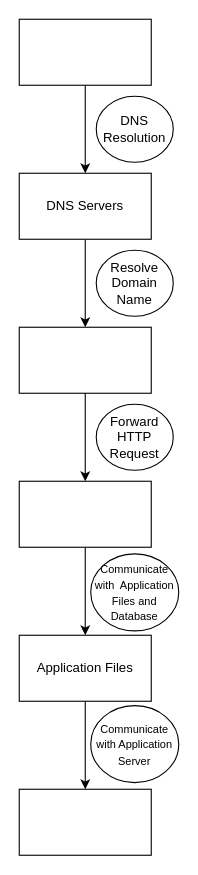
Image size: 198x875. Some labels were removed from this diagram. The shapes that lost their labels are listed below. From the top down, each one's centre as x and y in pixels, then its label:
At [84,51]: "User's computer".
At [84,359]: "Web Server (Nginix)".
At [84,513]: "Application Server".
At [84,821]: "Database (MySQL)".
